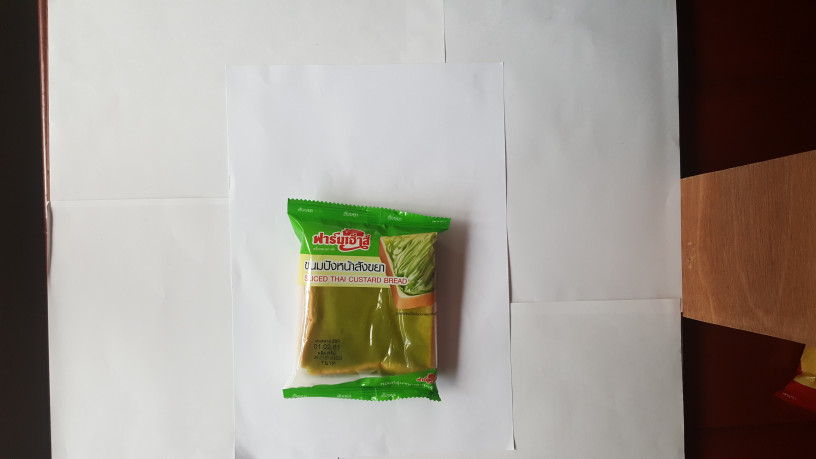farmhouse-bread-pandan: (265, 186, 460, 413)
